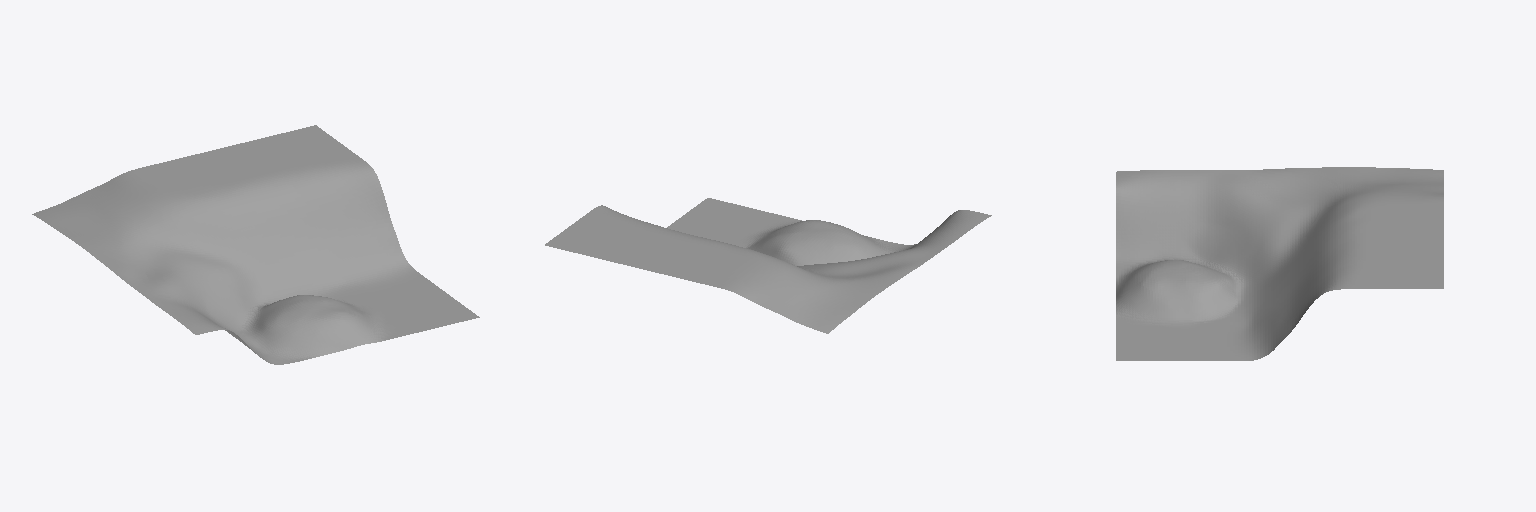
File: small_world_triangulated.obj
3 renders of one model, left to right at view 1: azimuth 30°, elevation 25°; view 2: azimuth 150°, elevation 25°; view 3: azimuth 270°, elevation 25°, orthographic.
Visible parts, largest first — view 1: WORLD_Plane.001; view 2: WORLD_Plane.001; view 3: WORLD_Plane.001.
Part boxes in pixels (bbox=[...]): WORLD_Plane.001: bbox=[32, 125, 479, 364]; WORLD_Plane.001: bbox=[545, 198, 991, 333]; WORLD_Plane.001: bbox=[1116, 167, 1443, 360].
Bounding box in the file's own units: 75.87 × 18.45 × 75.94.